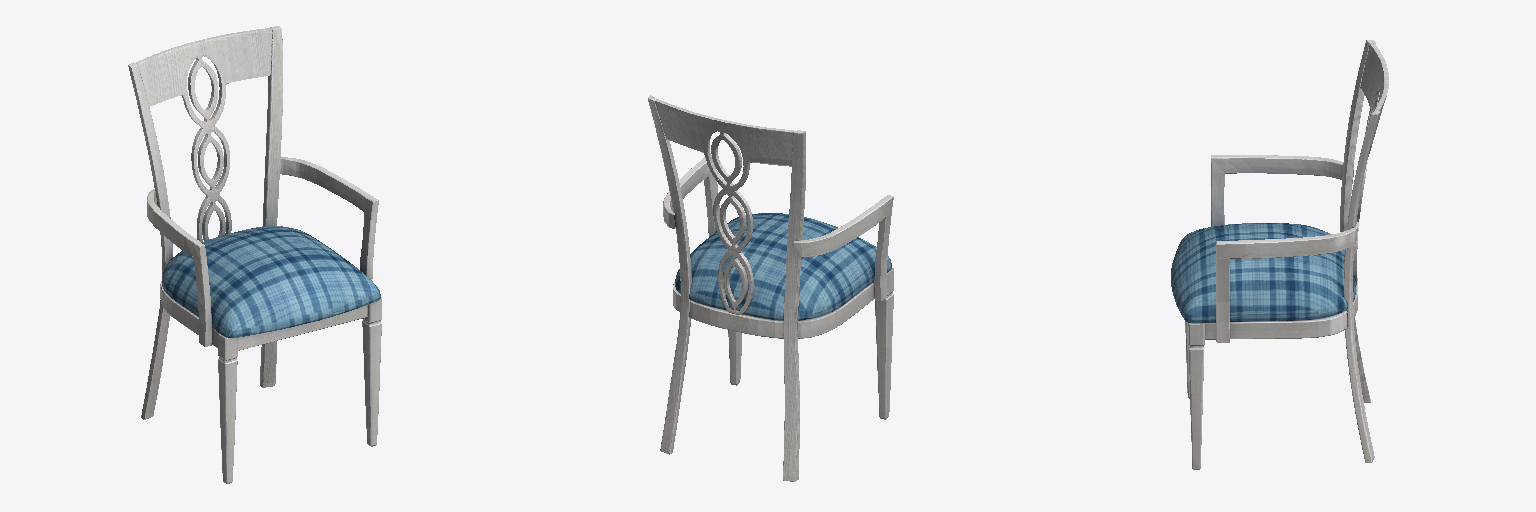
The picture shows the model from 3 angles: view 1: azimuth 30°, elevation 25°; view 2: azimuth 150°, elevation 25°; view 3: azimuth 270°, elevation 25°; orthographic projection.
Visible parts, largest first — view 1: solid_002, solid_001; view 2: solid_002, solid_001; view 3: solid_002, solid_001.
Boxes of the visible parts, x1=… form: solid_002: x1=128, y1=26, x2=381, y2=483; solid_001: x1=162, y1=226, x2=380, y2=337; solid_002: x1=648, y1=95, x2=893, y2=481; solid_001: x1=675, y1=213, x2=891, y2=320; solid_002: x1=1185, y1=40, x2=1388, y2=469; solid_001: x1=1171, y1=223, x2=1355, y2=322.
Size of the model in its own units: 0.848 by 1.56 by 0.8752.
Materials: 1 (1 with a texture image).